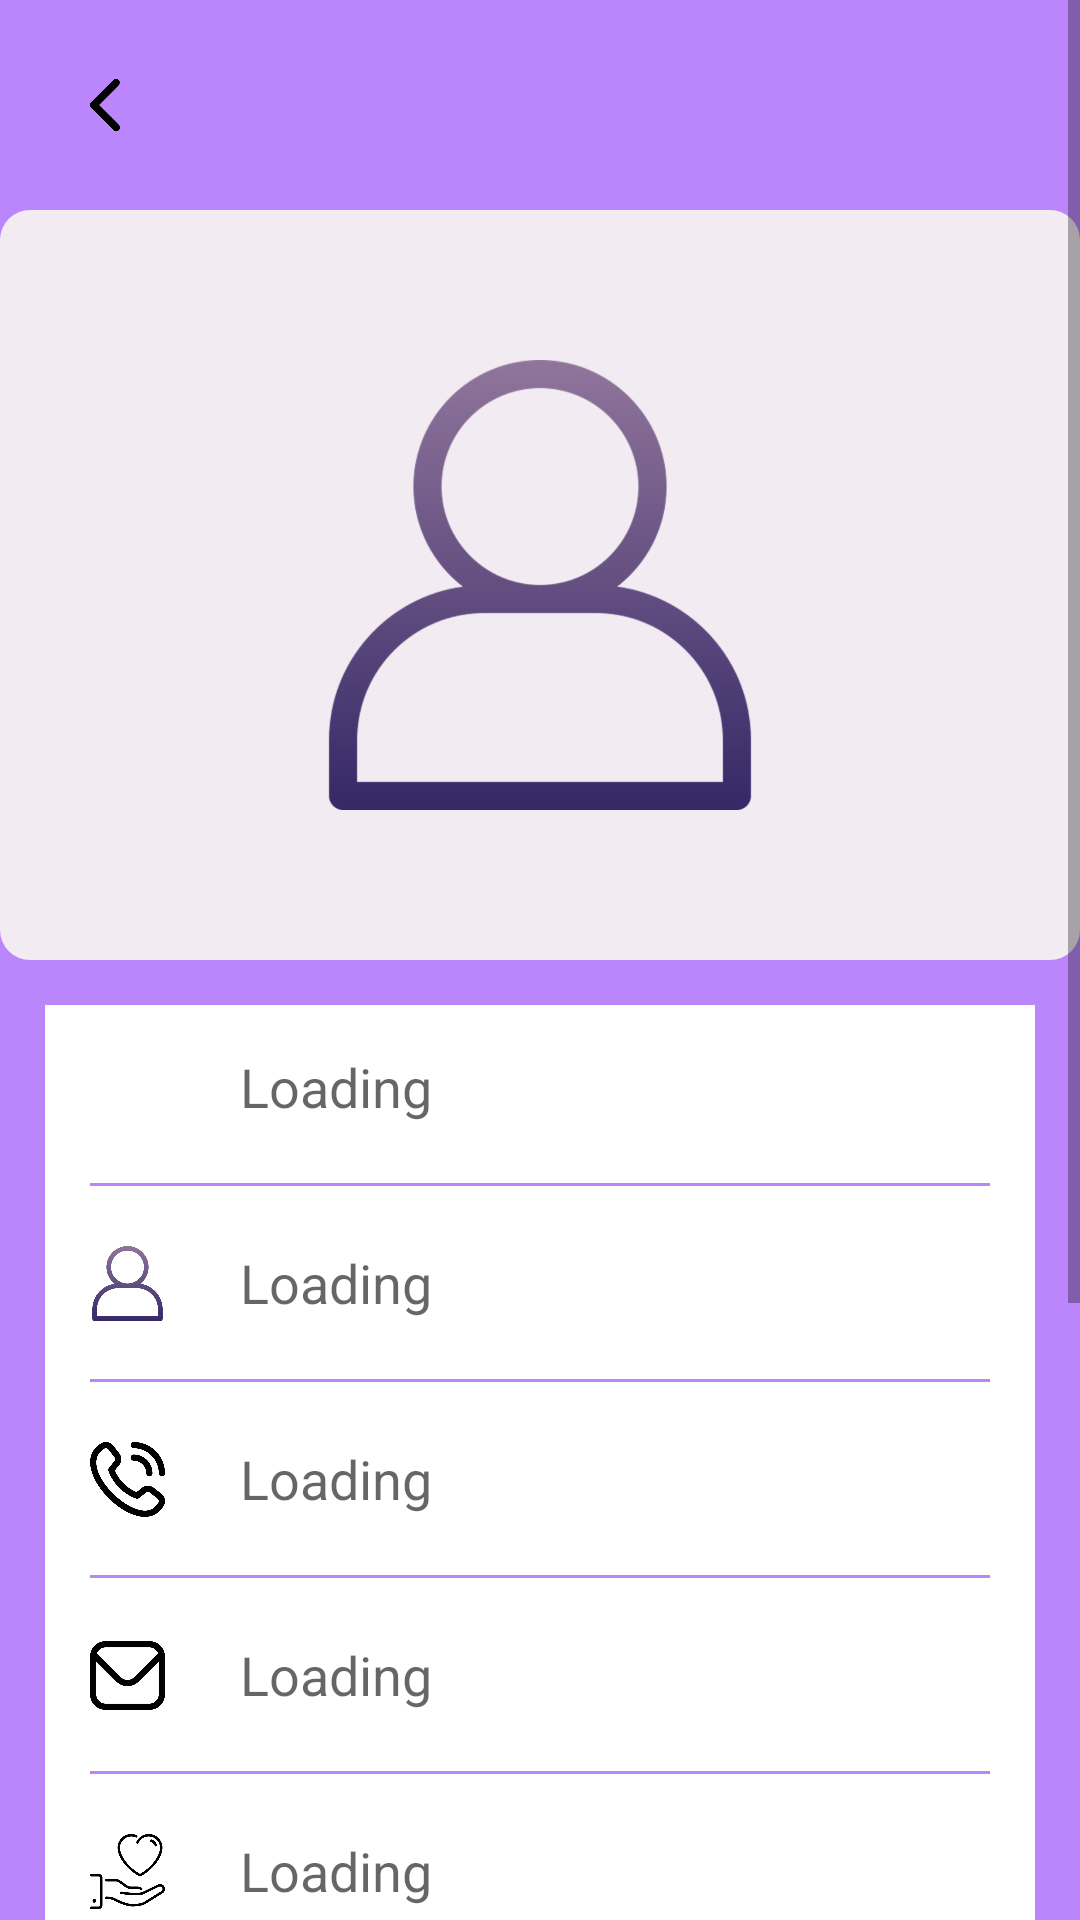

Screen size 1080px x 1920px. Icon name, then its center in pixels as (x=x, y=y):
back: (x=105, y=105)
envelope: (x=127, y=1675)
hand: (x=127, y=1871)
phone call: (x=127, y=1479)
